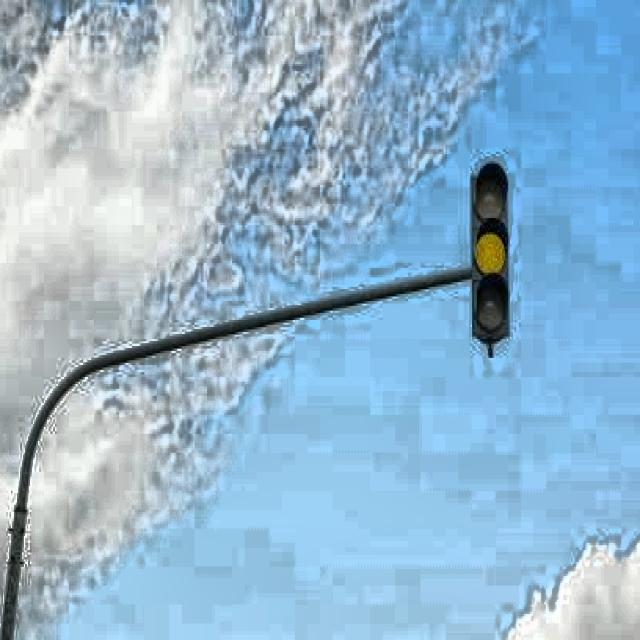yellow: (473, 167, 506, 337)
